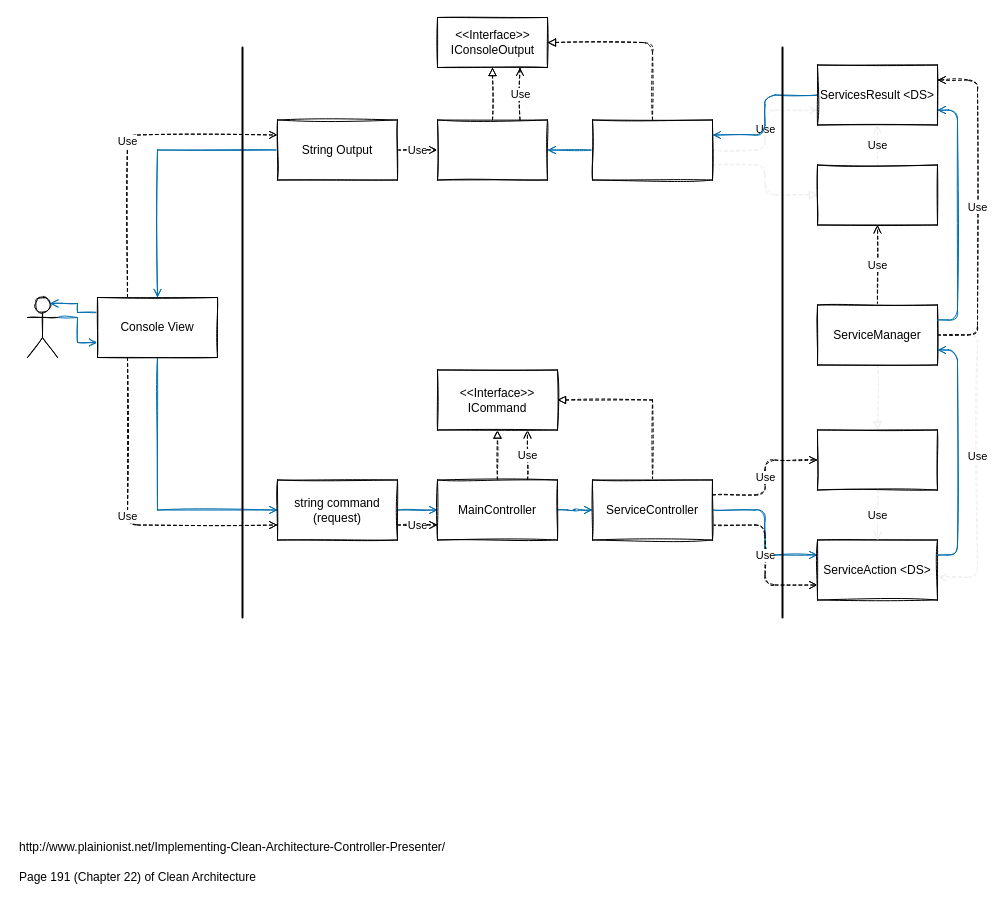
This 1004x905 diagram has some shape labels left out. The box of each missing label's shape, as (x1, y1, x2, y2) in pixels:
<<Interface>> IServiceManipulator: (816, 429, 938, 490)
<<Interface>> IServicesMonitor: (816, 164, 938, 225)
Actor: (26, 296, 58, 358)
MainPresenter: (436, 119, 548, 180)
ServicePresenter: (592, 119, 712, 180)
